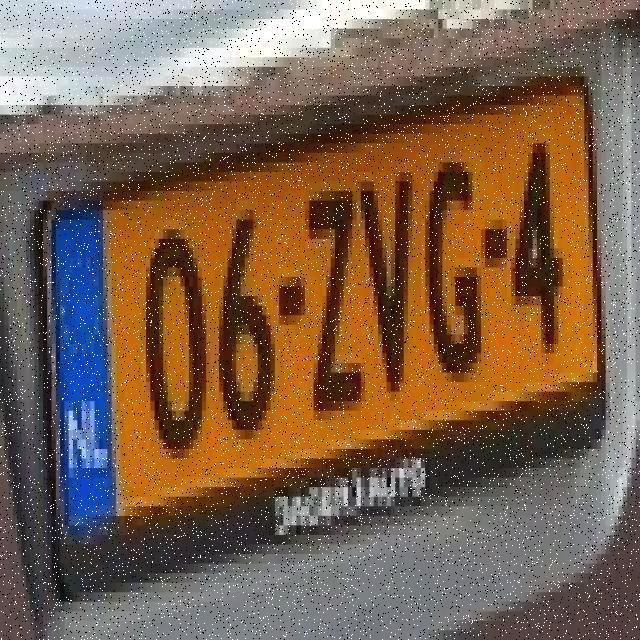LicensePlate: (38, 80, 608, 552)
